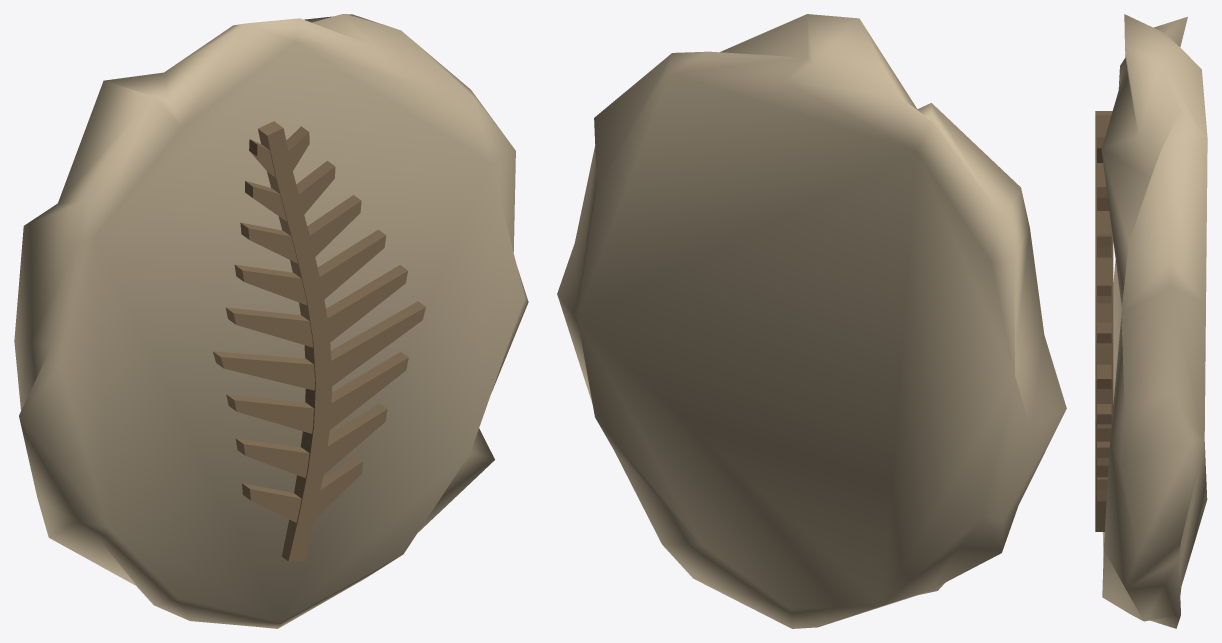
File: fossil_fern.glb
3 renders of one model, left to right at view 1: azimuth 30°, elevation 25°; view 2: azimuth 150°, elevation 25°; view 3: azimuth 270°, elevation 25°, orthographic. The views are drawn at different scales.
Parts seen in each view (by area): view 1: curio_fossil_fern; view 2: curio_fossil_fern; view 3: curio_fossil_fern.
Boxes of the visible parts, x1,y1,x2,y2 form: curio_fossil_fern: [14, 14, 528, 628]; curio_fossil_fern: [557, 14, 1066, 628]; curio_fossil_fern: [1095, 14, 1207, 628].
Bounding box in the file's own units: 0.3614 × 0.4301 × 0.0756.
